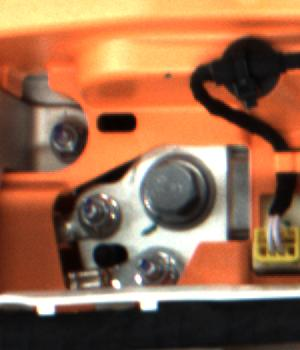nut_b: (132, 149, 222, 228)
screw_s: (71, 195, 115, 233), (133, 248, 172, 284), (47, 117, 75, 158)
